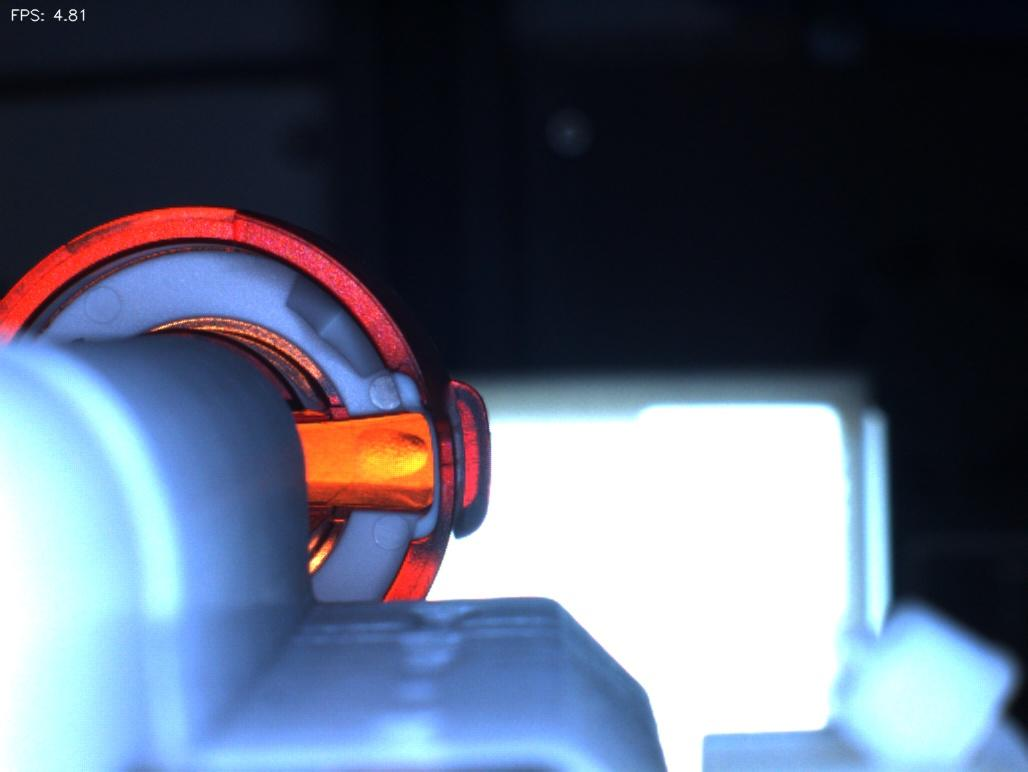Retassure: (347, 424, 434, 493)
